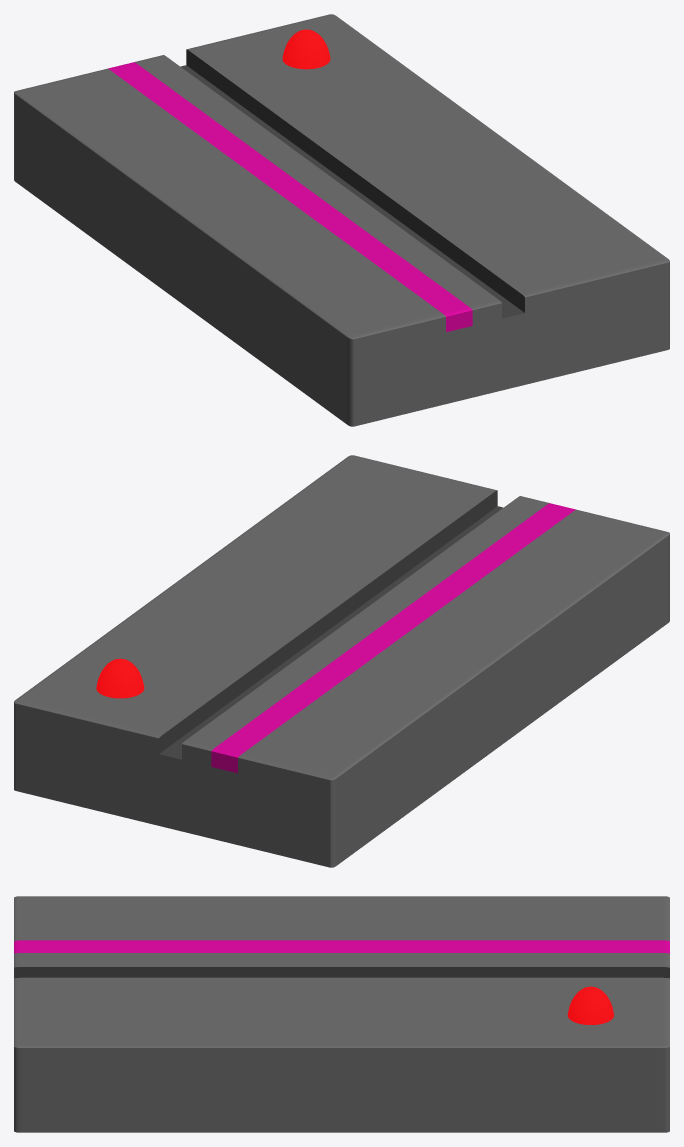
File: PinkKeyCardScannerRL.glb
The picture shows the model from 3 angles, top to bottom: view 1: azimuth 30°, elevation 25°; view 2: azimuth 150°, elevation 25°; view 3: azimuth 270°, elevation 25°; orthographic projection. The views are drawn at different scales.
Parts seen in each view (by area): view 1: Base, Light; view 2: Base, Light; view 3: Base, Light.
Boxes of the visible parts, left/top/right/bottom form: Base: left=14, top=14, right=669, bottom=426; Light: left=282, top=29, right=330, bottom=69; Base: left=14, top=455, right=669, bottom=867; Light: left=96, top=658, right=144, bottom=698; Base: left=14, top=896, right=669, bottom=1132; Light: left=567, top=986, right=613, bottom=1024.
Size of the model in its own units: 0.055 by 0.0192 by 0.1006.
